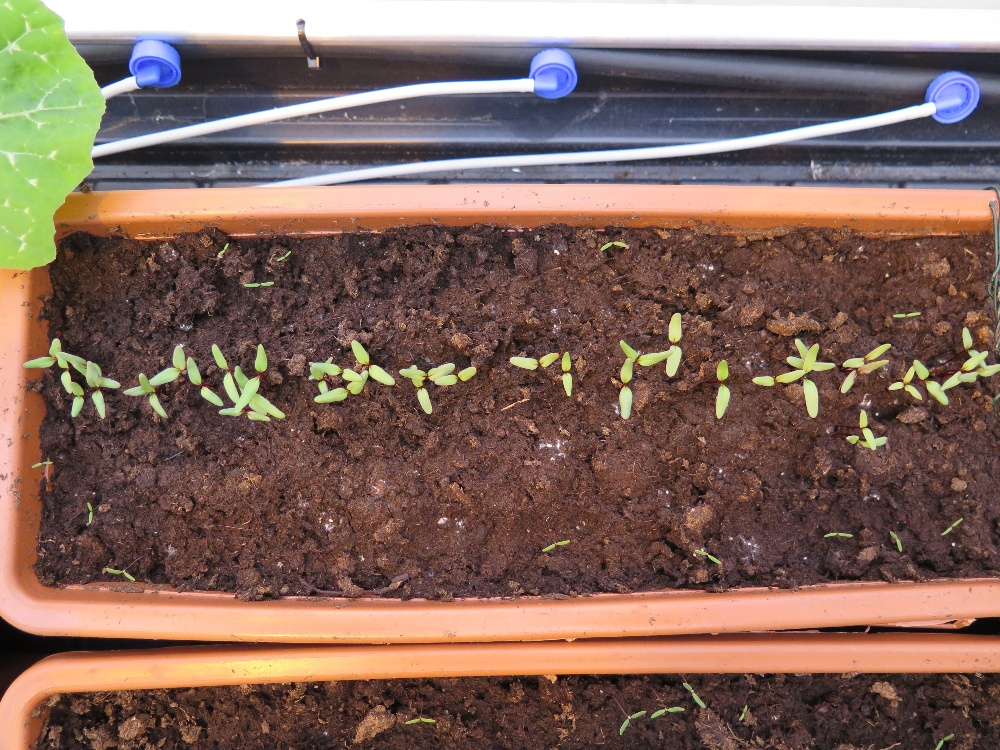crop: (235, 342, 269, 409), (350, 337, 395, 386), (184, 359, 227, 408), (212, 341, 242, 407), (134, 371, 173, 421), (619, 337, 676, 371), (313, 369, 368, 402), (148, 341, 187, 384), (82, 364, 110, 420), (18, 337, 61, 371), (408, 362, 434, 416), (666, 310, 685, 380), (617, 355, 636, 422), (219, 403, 275, 424), (507, 350, 560, 372), (311, 362, 362, 384), (715, 358, 731, 421), (398, 365, 460, 379), (430, 368, 480, 385), (307, 366, 333, 398), (56, 351, 74, 397), (66, 380, 85, 419), (561, 349, 573, 397)
weed: (618, 708, 647, 737), (682, 681, 706, 708), (649, 704, 685, 720), (105, 566, 136, 583), (694, 548, 722, 566), (940, 516, 964, 536), (541, 538, 571, 553), (403, 713, 437, 726), (243, 277, 276, 290), (599, 240, 629, 253), (888, 530, 903, 552), (29, 459, 54, 470), (823, 530, 854, 538), (891, 310, 921, 318), (737, 702, 748, 723), (275, 249, 291, 262), (85, 501, 93, 524), (218, 241, 229, 257)
